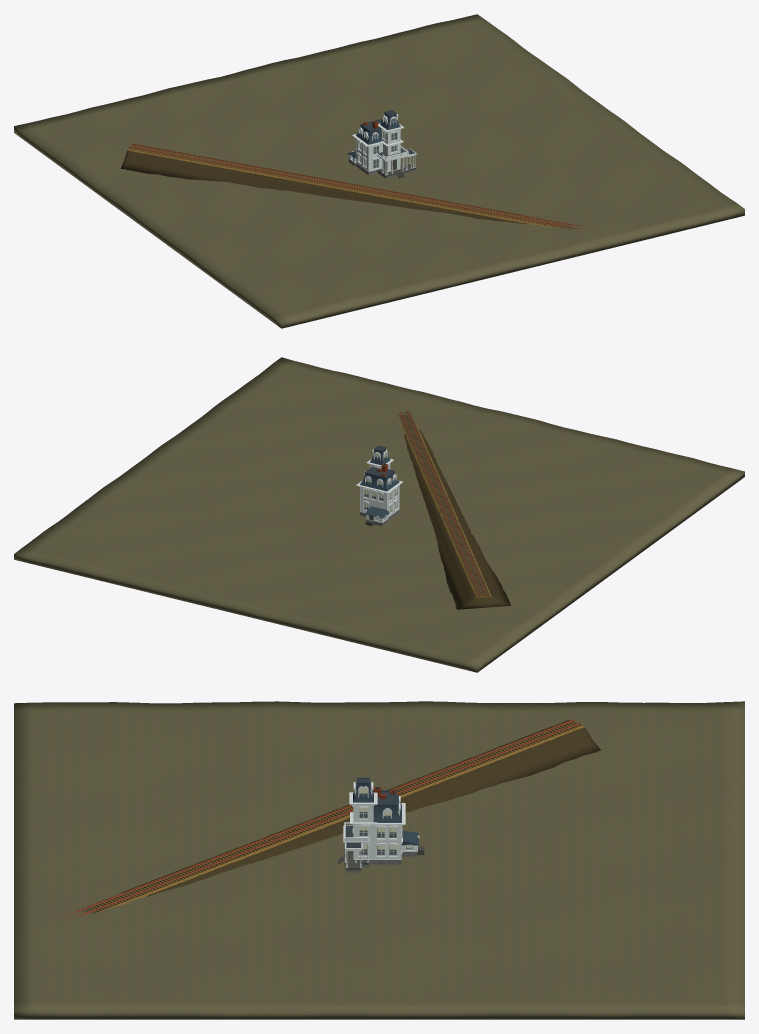
Rendered from railroad-ours-gemini-4-neon.glb.
3 views of the same model, one above another, from view 1: azimuth 30°, elevation 25°; view 2: azimuth 150°, elevation 25°; view 3: azimuth 270°, elevation 25° (orthographic). The views are drawn at different scales.
Visible parts, largest first — view 1: Terrain_Ground_Web, Railroad_Embankment_Web, Railroad_Ballast_Bed_Web, Railroad_Ties_Corridor_Web, Railroad_Rail_Near_Web, Railroad_Rail_Far_Web; view 2: Terrain_Ground_Web, Railroad_Embankment_Web, Railroad_Ties_Corridor_Web, Railroad_Ballast_Bed_Web; view 3: Terrain_Ground_Web, Railroad_Embankment_Web, Railroad_Ballast_Bed_Web, Railroad_Ties_Corridor_Web, Railroad_Rail_Near_Web, Railroad_Rail_Far_Web.
Part boxes in pixels (bbox=[...]): Terrain_Ground_Web: bbox=[14, 14, 744, 328]; Railroad_Embankment_Web: bbox=[121, 144, 527, 224]; Railroad_Ballast_Bed_Web: bbox=[127, 145, 562, 227]; Railroad_Ties_Corridor_Web: bbox=[129, 144, 571, 229]; Railroad_Rail_Near_Web: bbox=[129, 146, 587, 230]; Railroad_Rail_Far_Web: bbox=[131, 144, 586, 227]; Terrain_Ground_Web: bbox=[14, 357, 744, 672]; Railroad_Embankment_Web: bbox=[404, 430, 510, 609]; Railroad_Ties_Corridor_Web: bbox=[398, 411, 489, 596]; Railroad_Ballast_Bed_Web: bbox=[399, 416, 492, 598]; Terrain_Ground_Web: bbox=[14, 701, 744, 1019]; Railroad_Embankment_Web: bbox=[121, 720, 600, 896]; Railroad_Ballast_Bed_Web: bbox=[89, 720, 583, 911]; Railroad_Ties_Corridor_Web: bbox=[76, 719, 581, 913]; Railroad_Rail_Near_Web: bbox=[61, 719, 574, 917]; Railroad_Rail_Far_Web: bbox=[70, 722, 580, 918].
Bounding box in the file's own units: 120 × 17.47 × 120.
15 materials, 12 textured.
